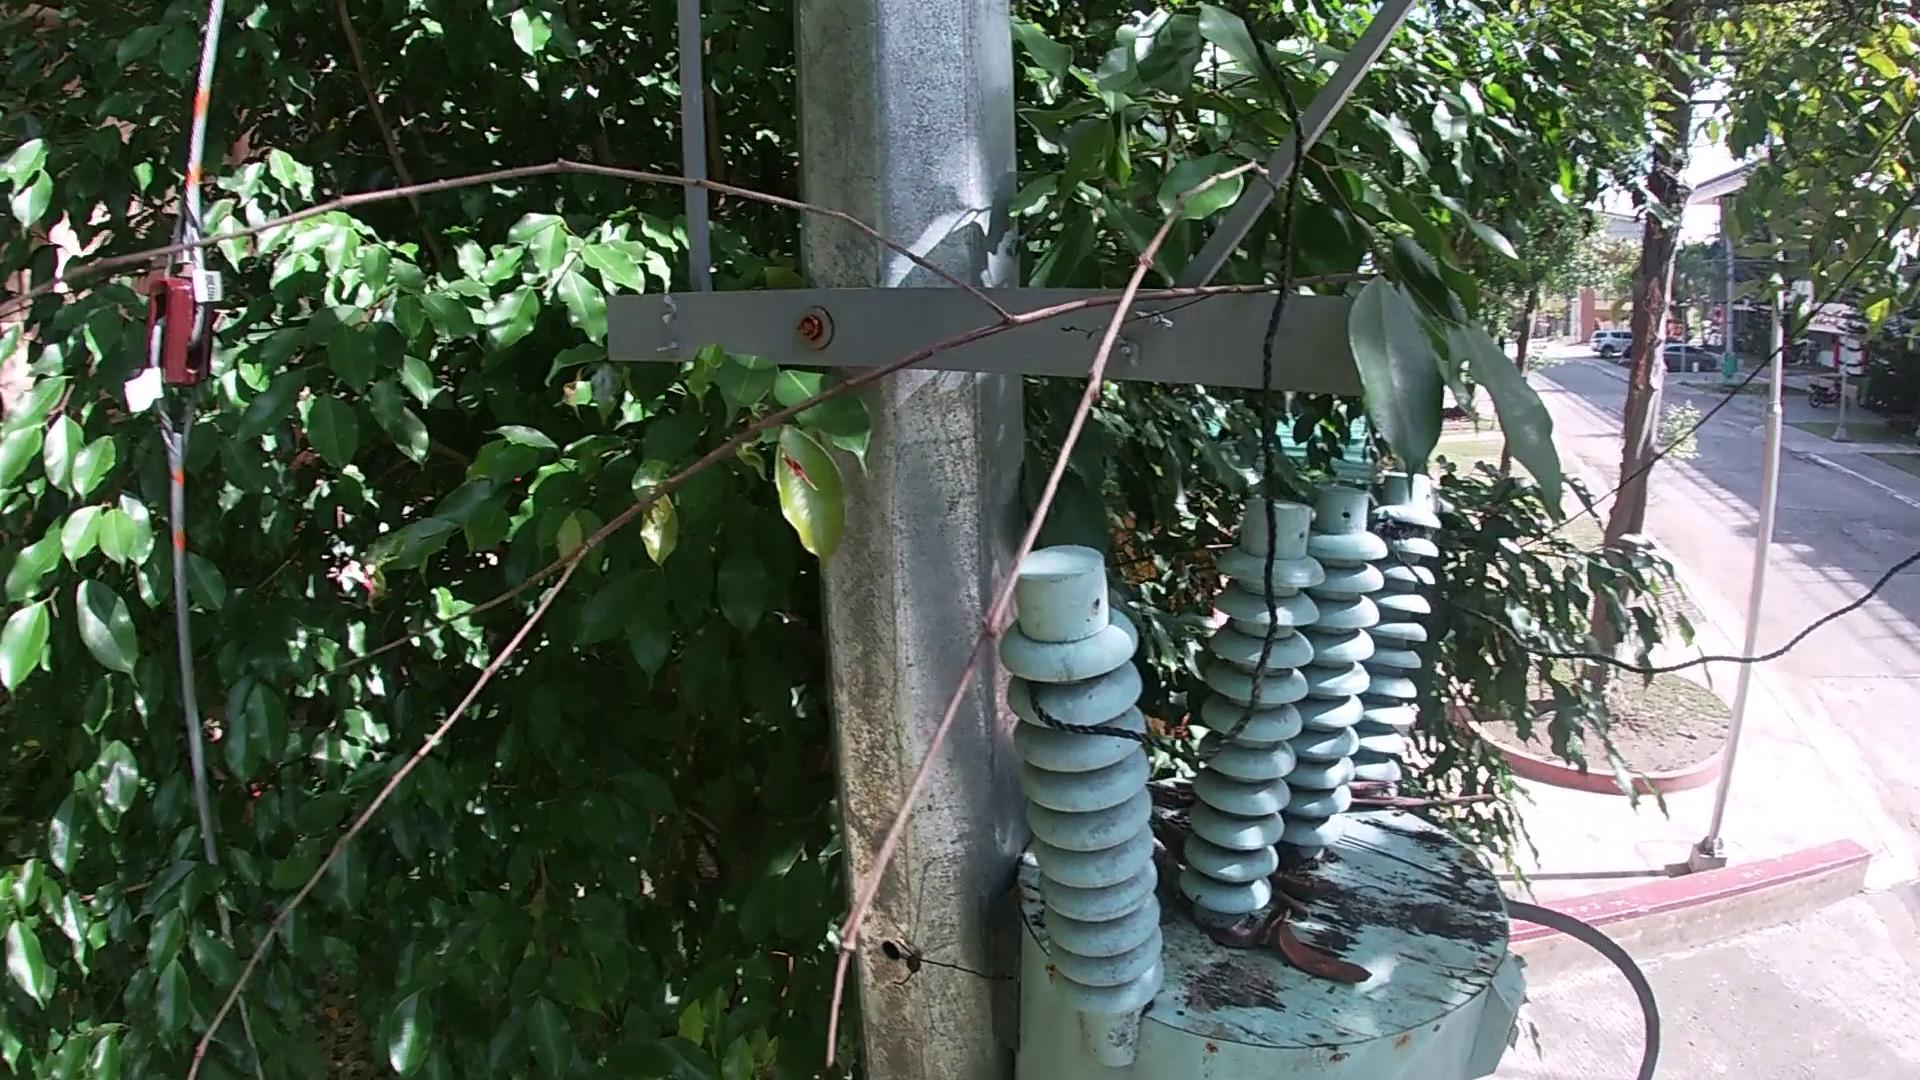leaf: (1211, 913, 1279, 957)
mahogany fruit: (1287, 927, 1385, 990), (1279, 865, 1342, 899)
tree branch: (32, 158, 1423, 1071), (1333, 832, 1485, 887), (1356, 785, 1495, 808), (1155, 808, 1182, 890), (1153, 774, 1203, 814), (1269, 891, 1323, 924), (1338, 881, 1394, 905)
